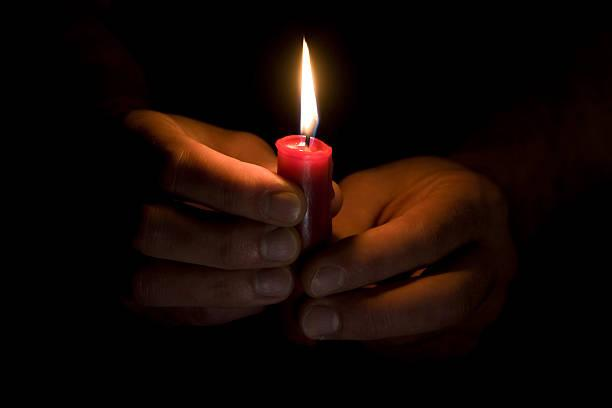Fire: (294, 33, 322, 139)
